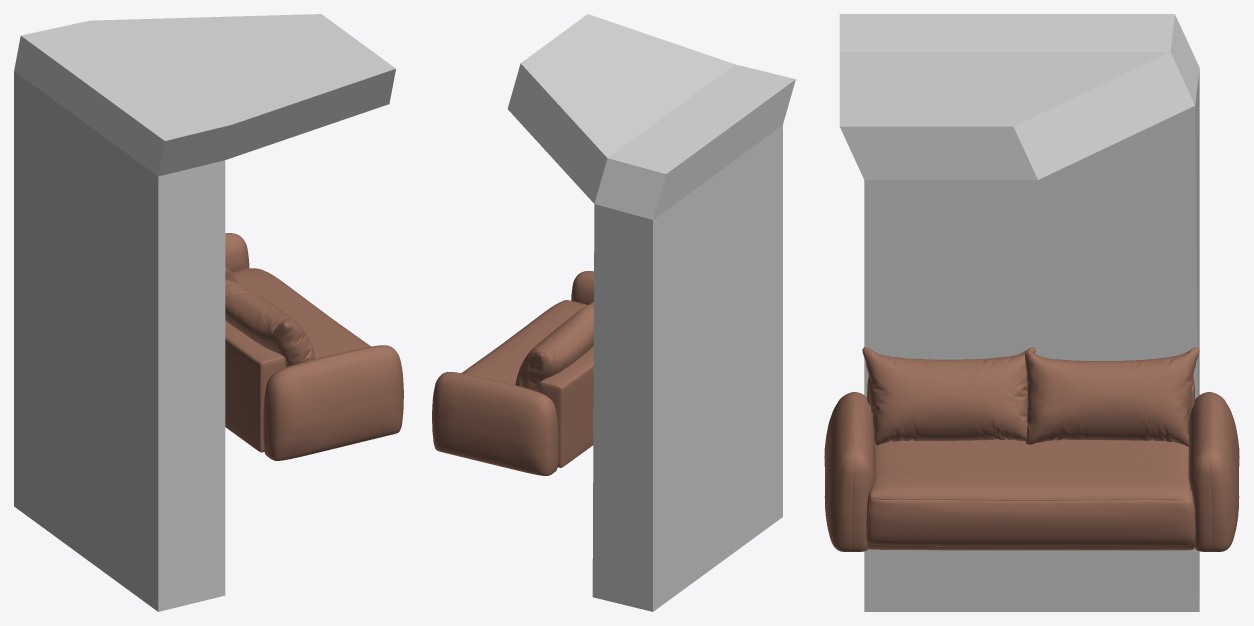
The model's file is shadow2.glb.
The picture shows the model from 3 angles, left to right: view 1: azimuth 30°, elevation 25°; view 2: azimuth 150°, elevation 25°; view 3: azimuth 270°, elevation 25°; orthographic projection. The views are drawn at different scales.
Parts seen in each view (by area): view 1: Cube, lamiasofaamalfi3s.002; view 2: Cube, lamiasofaamalfi3s.002; view 3: Cube, lamiasofaamalfi3s.002.
Part boxes in pixels (x1,y1,x2,y2): Cube: (14,14,395,611); lamiasofaamalfi3s.002: (225,233,403,460); Cube: (507,14,795,611); lamiasofaamalfi3s.002: (432,271,593,475); Cube: (839,14,1199,611); lamiasofaamalfi3s.002: (824,347,1239,551).
Size of the model in its own units: 2.02 by 3.79 by 2.48.
1 material, 1 textured.
